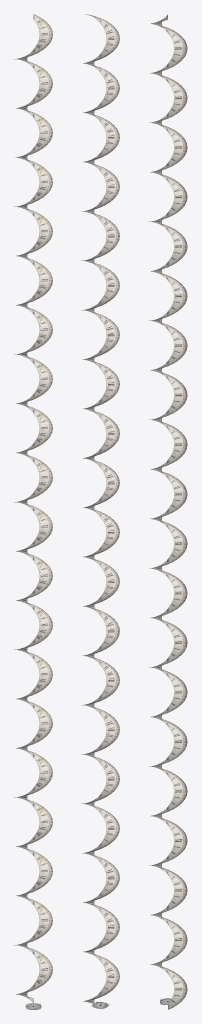
Rendered from TimeDimension.fbx.
3 views of the same model, side by side, from view 1: azimuth 90°, elevation 25°; view 2: azimuth 150°, elevation 25°; view 3: azimuth 270°, elevation 25° (orthographic).
Visible parts, largest first — view 1: Time Spiral; view 2: Time Spiral; view 3: Time Spiral.
Part boxes in pixels (bbox=[...]): Time Spiral: bbox=[14, 14, 52, 1003]; Time Spiral: bbox=[81, 14, 119, 1003]; Time Spiral: bbox=[149, 14, 187, 1009].
Bounding box in the file's own units: 200 × 5592 × 200.
2 materials, 2 textured.
